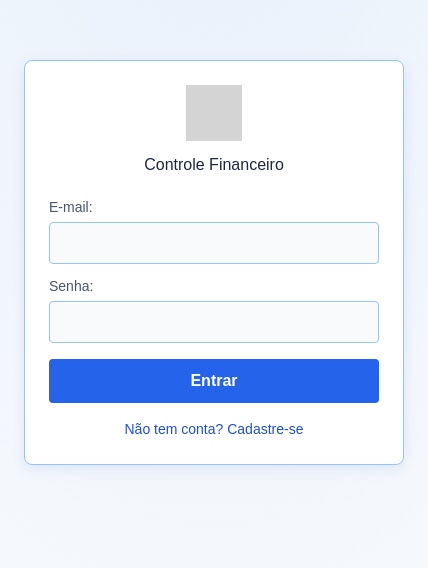
Test case: Login Component › deve alternar entre modo de login e modo de cadastro ao clicar no link de alternância
Expected: the heading "Controle Financeiro" is shown, [144,156,284,173]
Note: Clica para alternar para o modo de cadastro
Click the button "Não tem conta? Cadastre-se" at (214, 429), box [124,421,304,437]
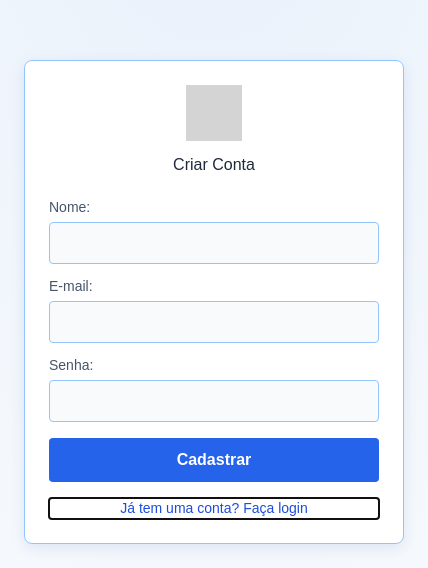
Expected: the heading "Criar Conta" is shown, [173,156,255,173]
